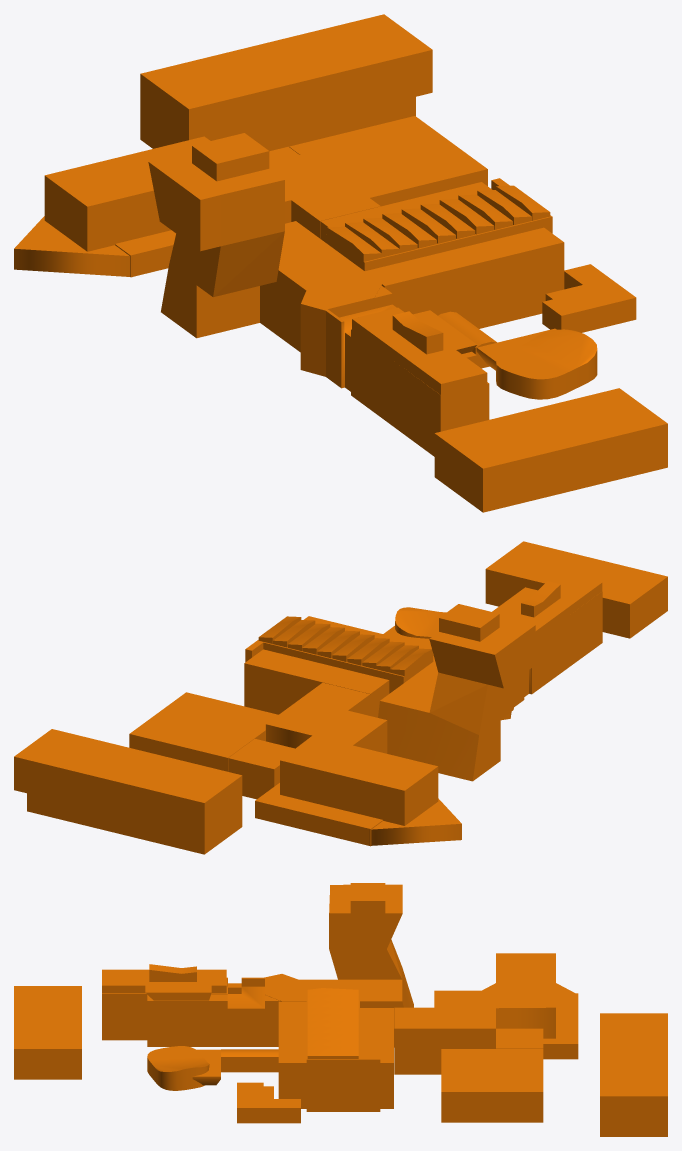
The model's file is zp7_current.fbx.
3 views of the same model, one above another, from view 1: azimuth 30°, elevation 25°; view 2: azimuth 150°, elevation 25°; view 3: azimuth 270°, elevation 25° (orthographic). The views are drawn at different scales.
Parts seen in each view (by area): view 1: Box007; view 2: Box007; view 3: Box007.
Boxes of the visible parts, x1,y1,x2,y2 form: Box007: [14, 14, 667, 512]; Box007: [14, 541, 667, 854]; Box007: [14, 883, 667, 1136].
Size of the model in its own units: 221 by 79.99 by 380.
